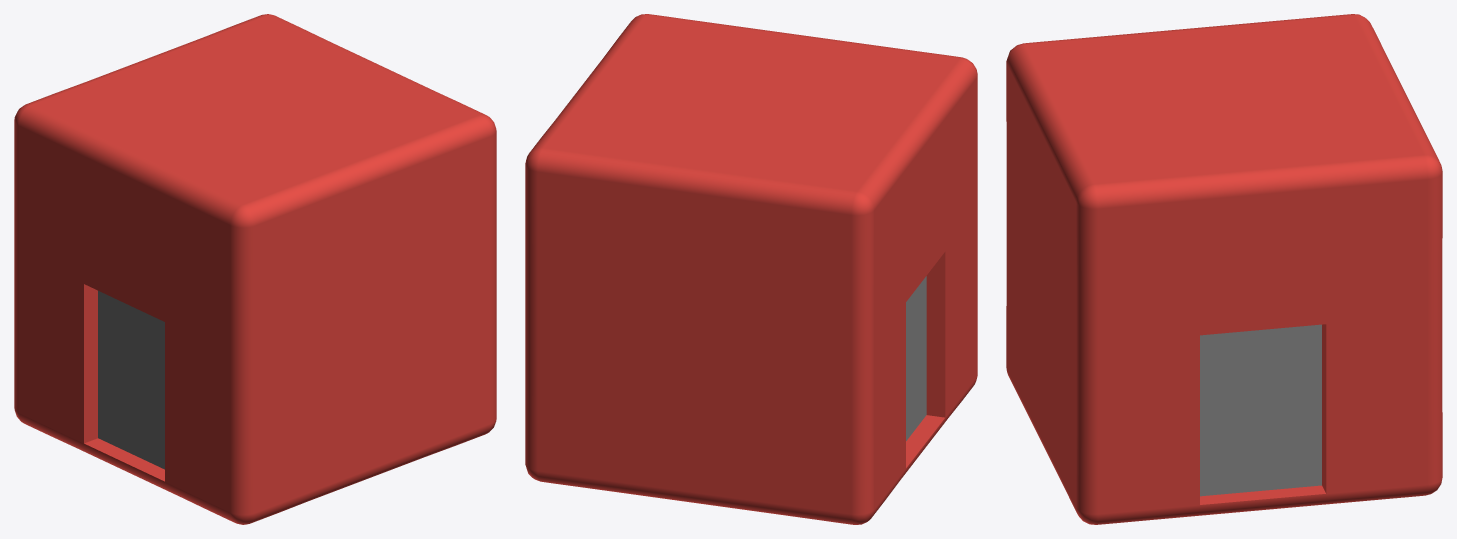
Rendered from prop.fbx.
3 views of the same model, side by side, from view 1: azimuth 30°, elevation 25°; view 2: azimuth 150°, elevation 25°; view 3: azimuth 270°, elevation 25° (orthographic). The views are drawn at different scales.
Visible parts, largest first — view 1: p; view 2: p; view 3: p.
Part boxes in pixels (x1,y1,x2,y2): p: (14,14,496,524); p: (525,14,977,524); p: (1006,14,1442,524).
Size of the model in its own units: 2.33 by 2 by 2.33.
